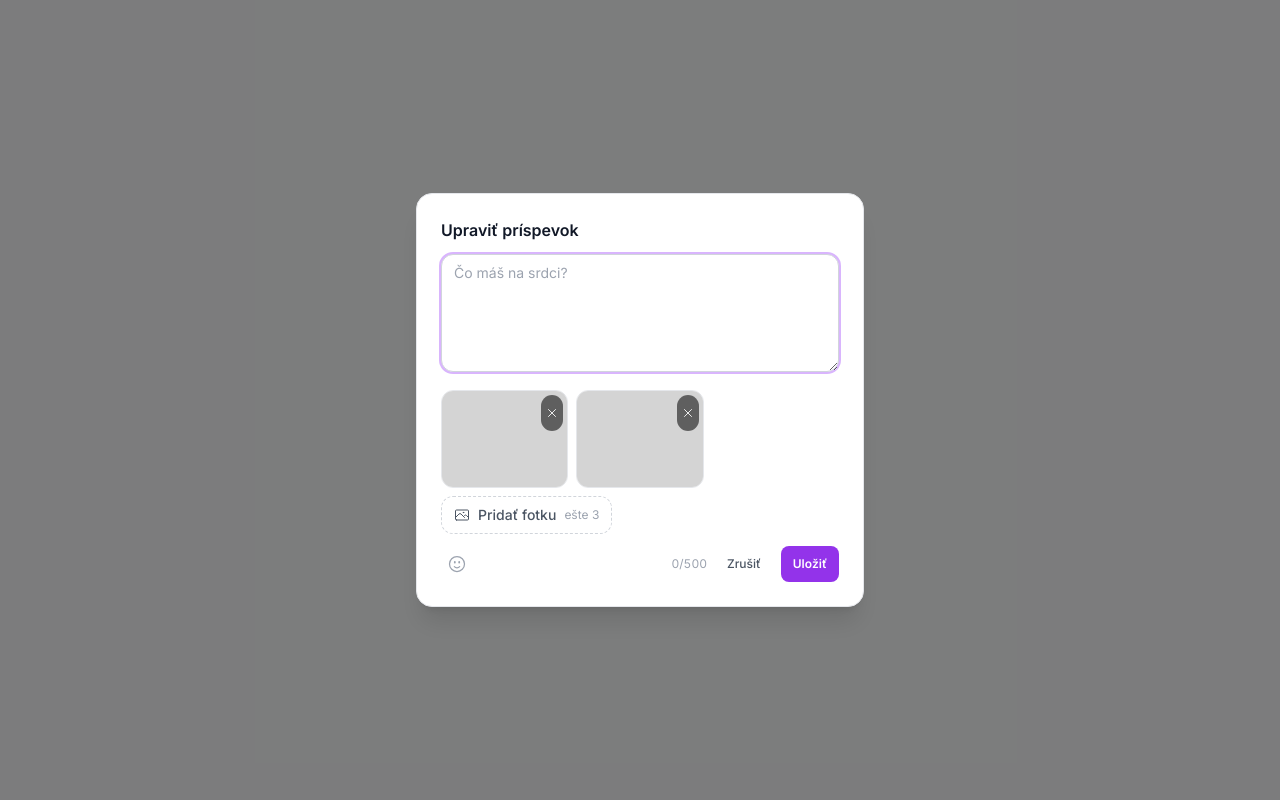
it: príspevok nesmie ostať prázdny › hides it on the last photo left in the draft
Step 1. Click the button with test id "feed-post-edit-photo-remove-11" → (552, 413), box [541,395,563,431]
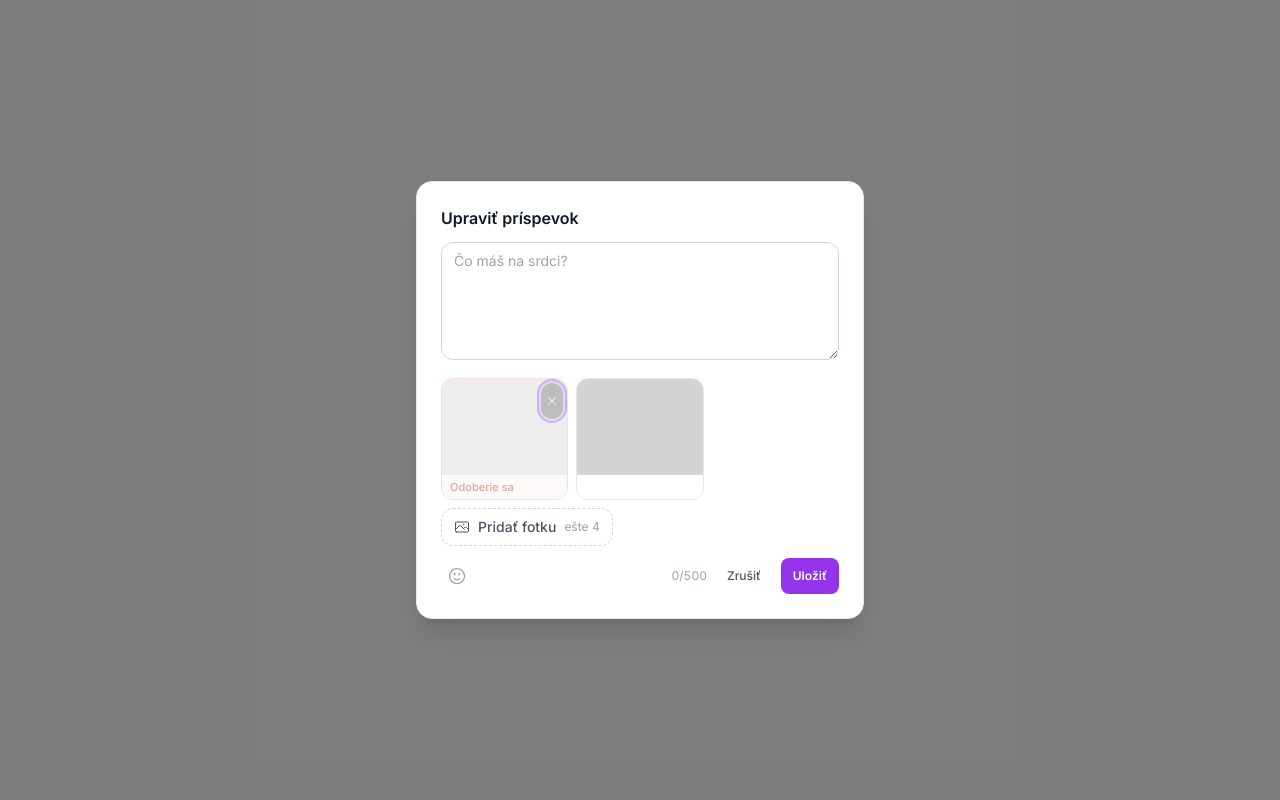
Expected: the button with test id "feed-post-edit-photo-remove-11" is enabled, [541,383,563,419]
Expected: the button with test id "feed-post-edit-photo-remove-12" is gone
